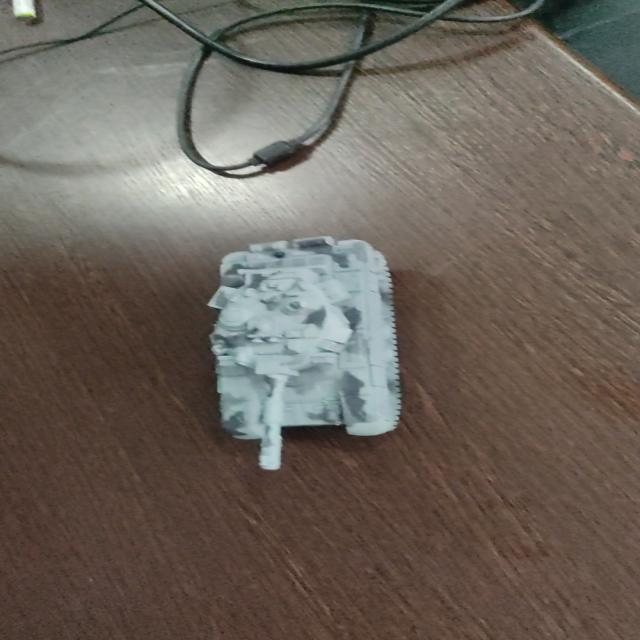tank: (203, 230, 413, 480)
